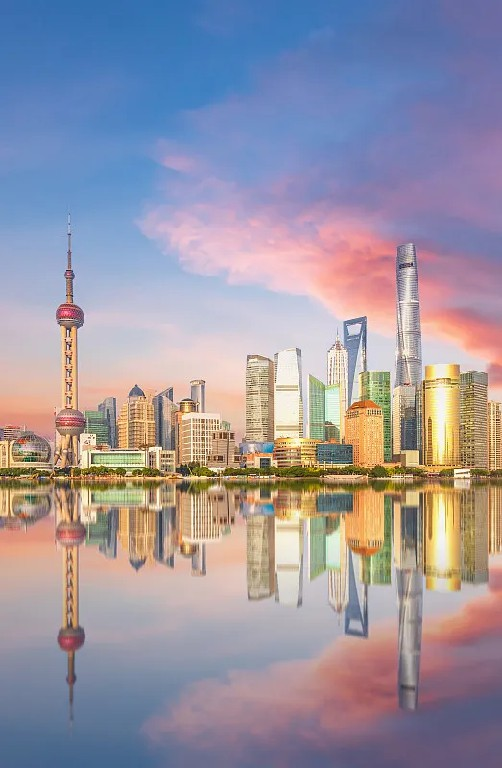Oriental: (54, 210, 86, 464)
